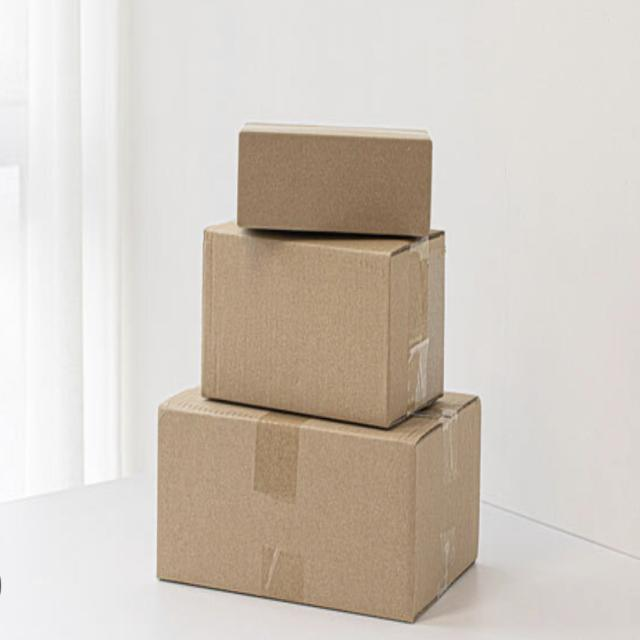biodegradable: (138, 370, 504, 630), (197, 208, 460, 429), (224, 104, 453, 248)
